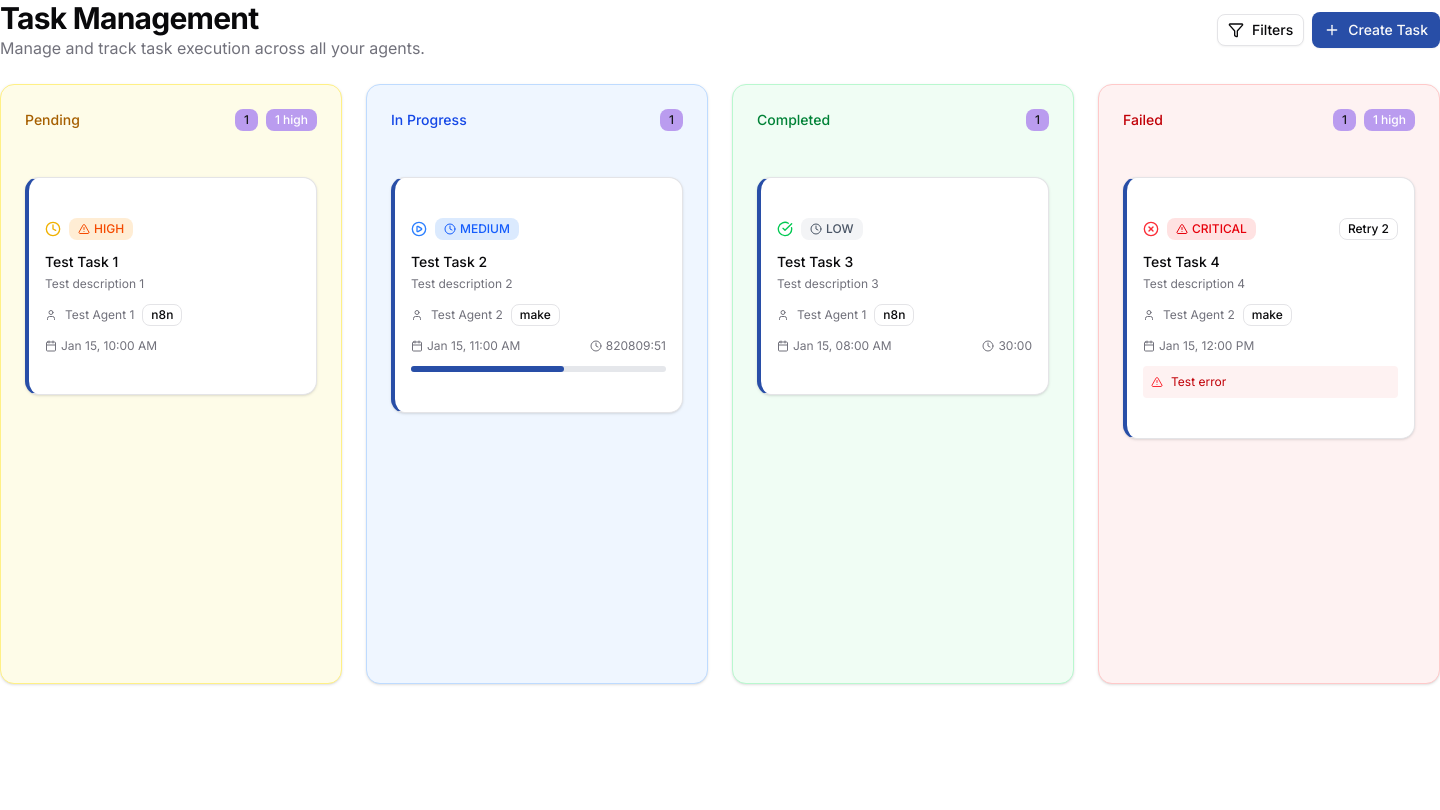
TaskBoard › opens create task modal when create button is clicked
Click the button "Create Task".
click(1376, 30)  # box [1312,12,1439,48]
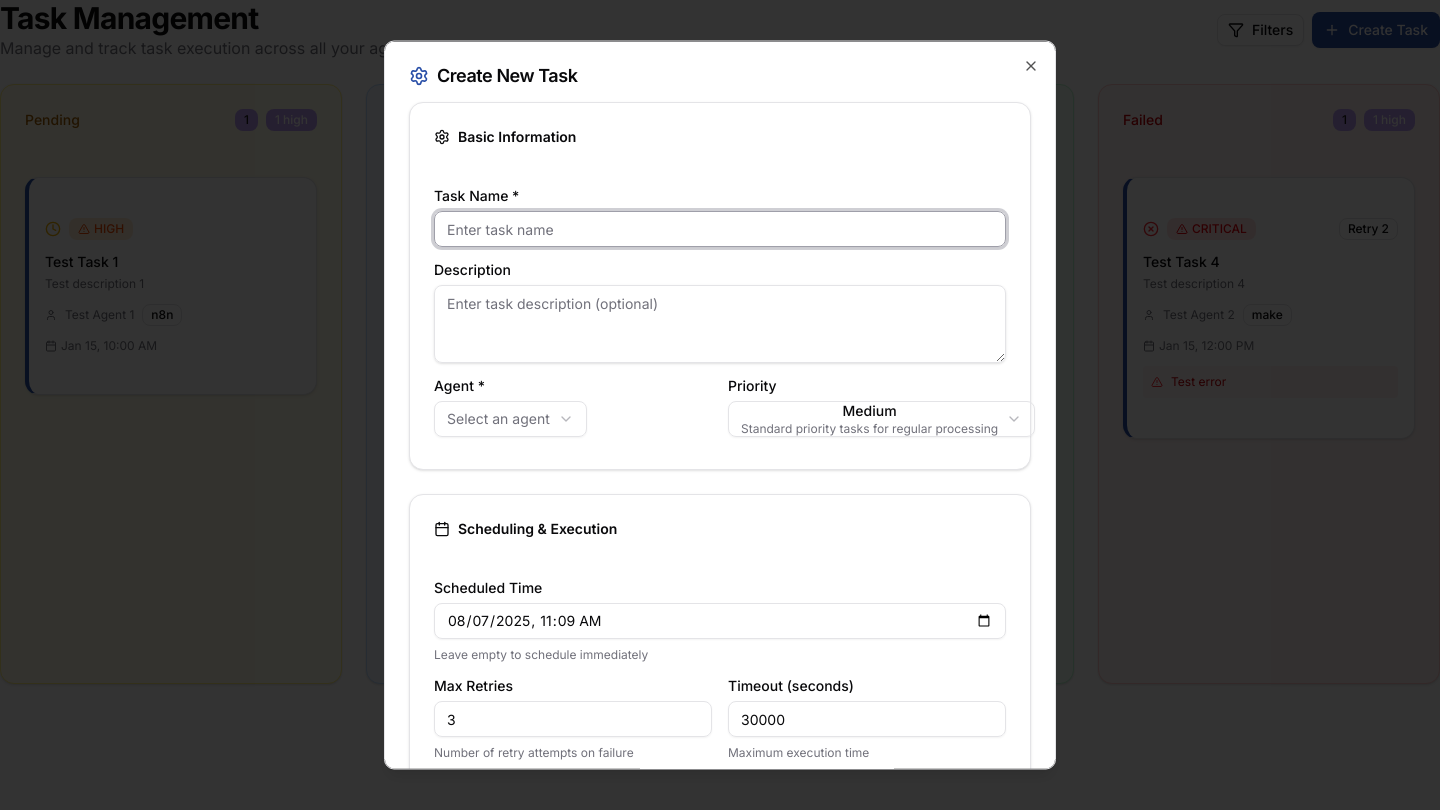
Result: the heading "Create New Task" is shown at [409,64,578,86]
